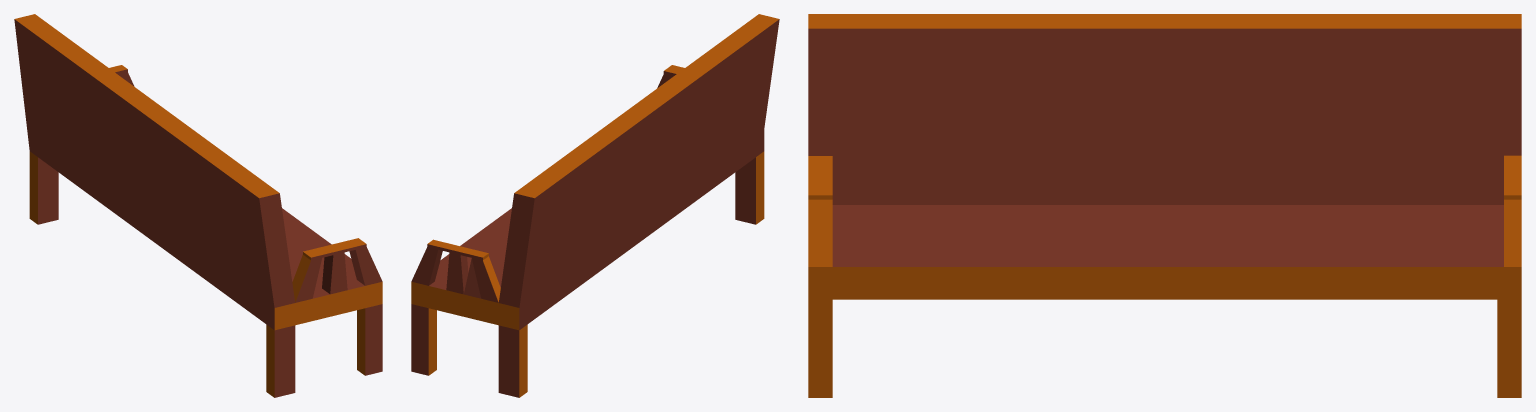
Rendered from mono_bank.fbx.
The picture shows the model from 3 angles, left to right: view 1: azimuth 30°, elevation 25°; view 2: azimuth 150°, elevation 25°; view 3: azimuth 270°, elevation 25°; orthographic projection. The views are drawn at different scales.
Parts seen in each view (by area): view 1: Cube; view 2: Cube; view 3: Cube.
Boxes of the visible parts, x1=… form: Cube: x1=14, y1=14, x2=382, y2=397; Cube: x1=411, y1=14, x2=779, y2=397; Cube: x1=808, y1=14, x2=1521, y2=397.
Size of the model in its own units: 165 by 259 by 566.
